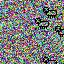sheep: (35, 18, 50, 29), (43, 7, 57, 18), (55, 26, 64, 37), (43, 57, 57, 64)
